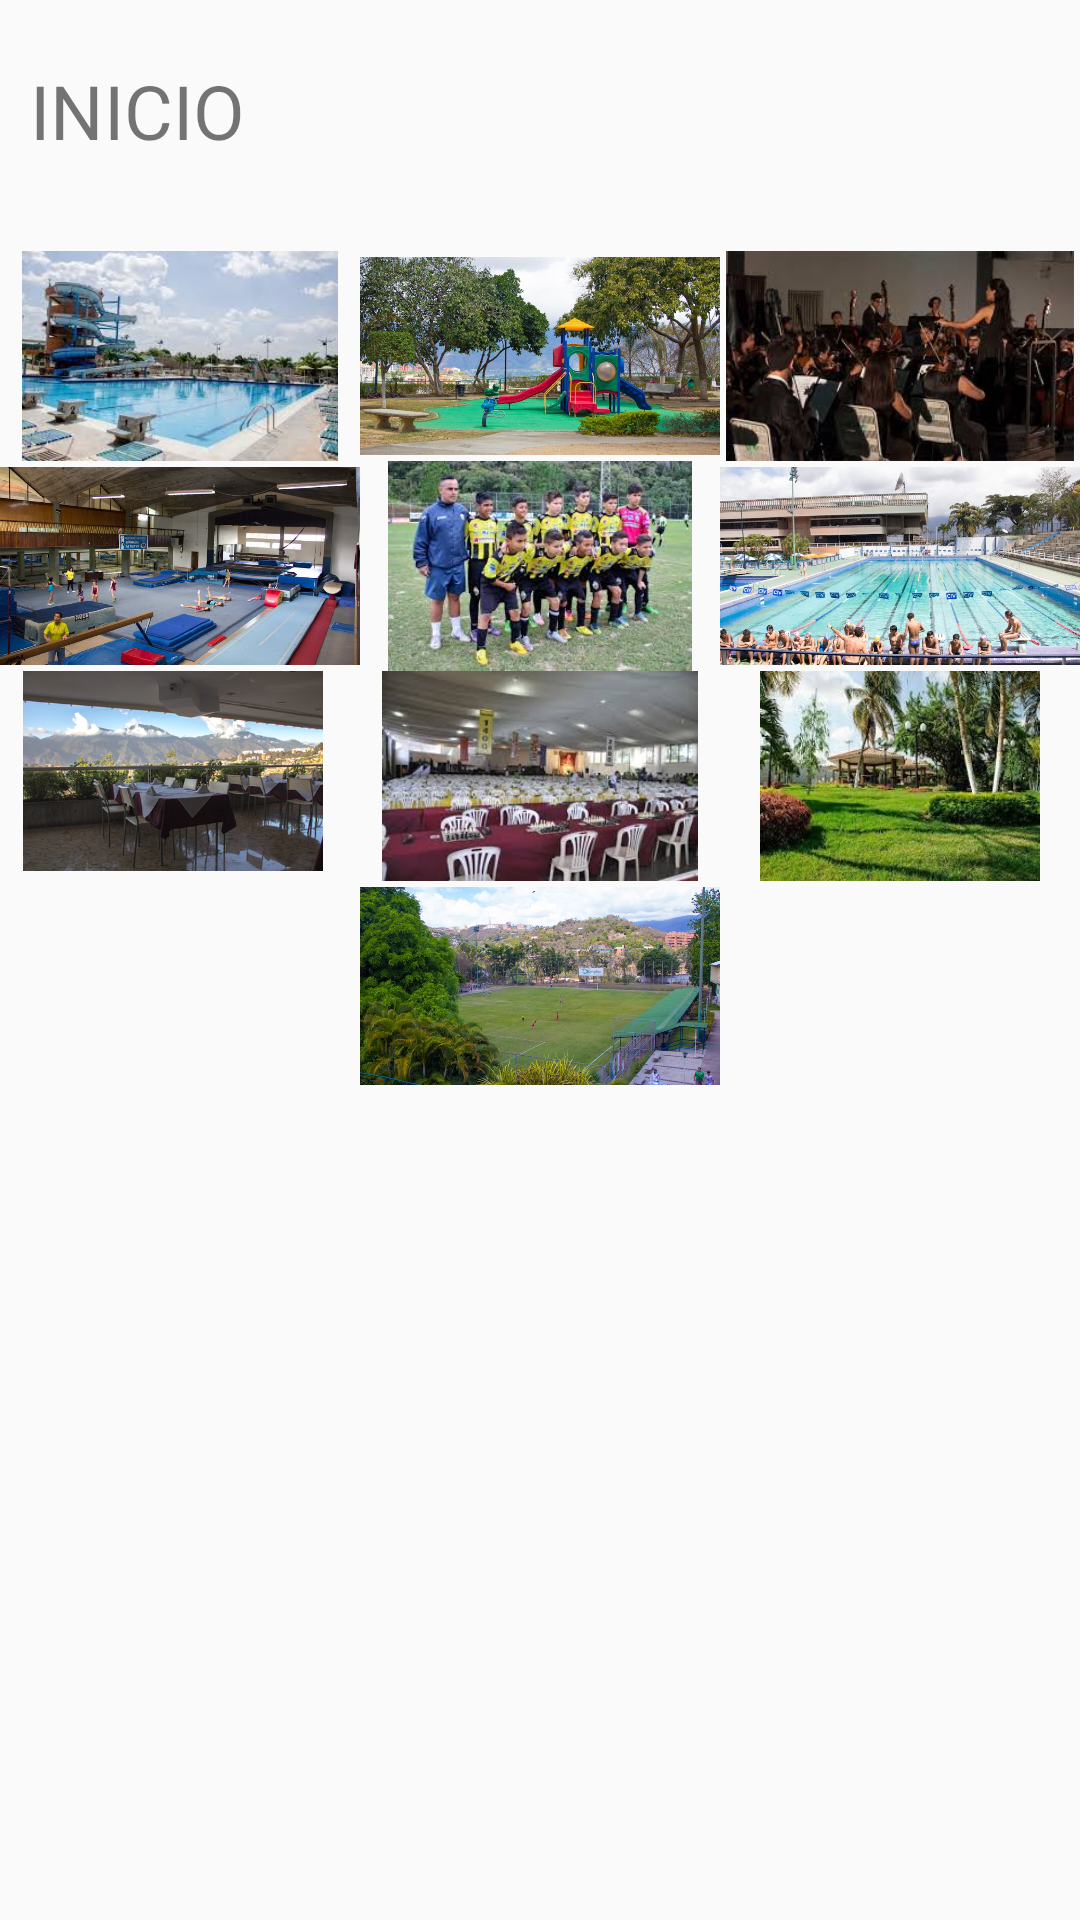

Where to tap for icons on this 1080px x 1920px app screen, as [x,y]:
cancha futbol: [540,986]
futbol: [540,566]
gimnasio: [180,566]
jardin: [900,776]
natacion: [900,566]
parque infantil: [540,356]
piscina: [180,356]
restaurante: [173,771]
salon de orquestas: [900,356]
salon fiestas: [540,776]
